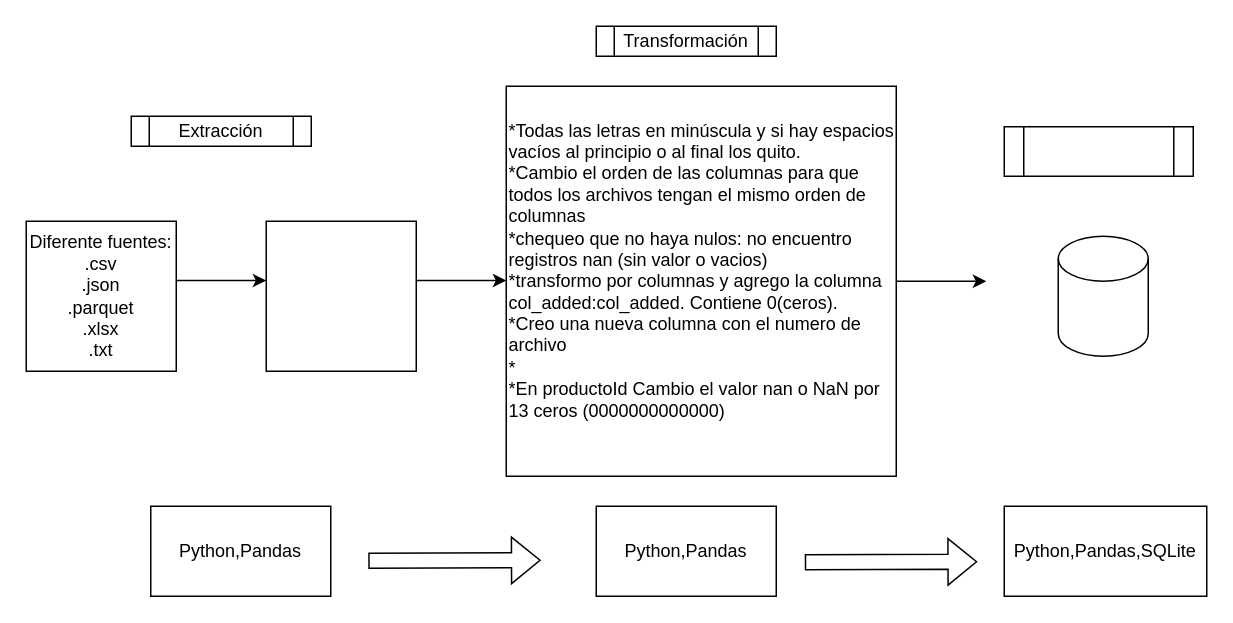
The diagram is 1233 pixels wide and 623 high, and some of its shapes have lost their labels. The shapes that lost their labels are listed below. From the top down, each one's box as (x1, y1, x2, y2) in pixels, then its label:
(1003, 125, 1193, 176): Carga en Base de datos
(265, 220, 416, 371): convertir a un solo tipo de archivo.
